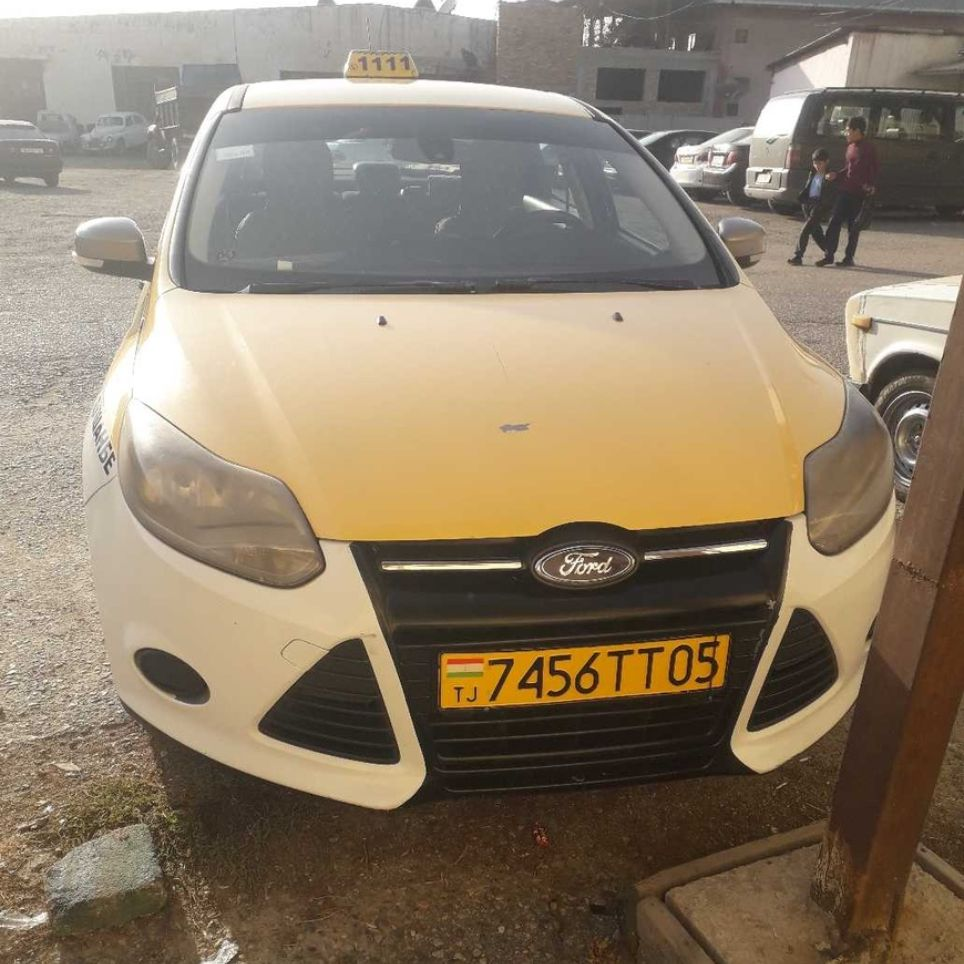license plate: (435, 632, 732, 713)
truck: (77, 71, 904, 816)
